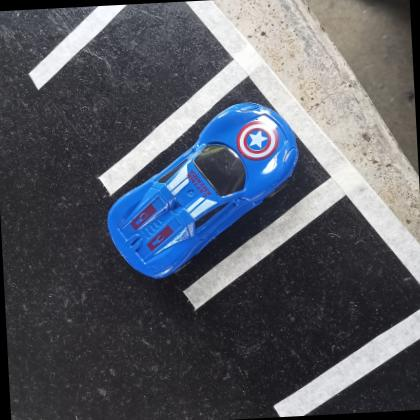Car: (107, 100, 299, 281)
